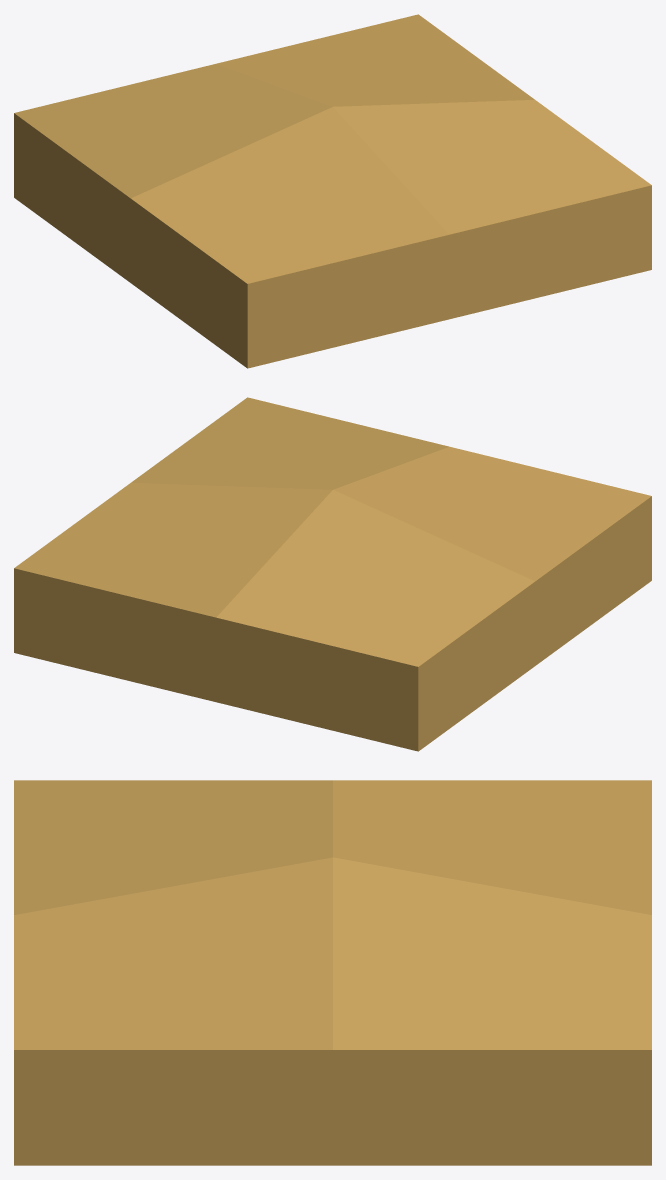
File: SandPlate.fbx
3 renders of one model, top to bottom at view 1: azimuth 30°, elevation 25°; view 2: azimuth 150°, elevation 25°; view 3: azimuth 270°, elevation 25°, orthographic. The views are drawn at different scales.
Visible parts, largest first — view 1: Cube.002; view 2: Cube.002; view 3: Cube.002.
Part boxes in pixels (x1,y1,x2,y2): Cube.002: (14,14,651,368); Cube.002: (14,397,651,751); Cube.002: (14,780,651,1165).
Size of the model in its own units: 500 by 150 by 500.
